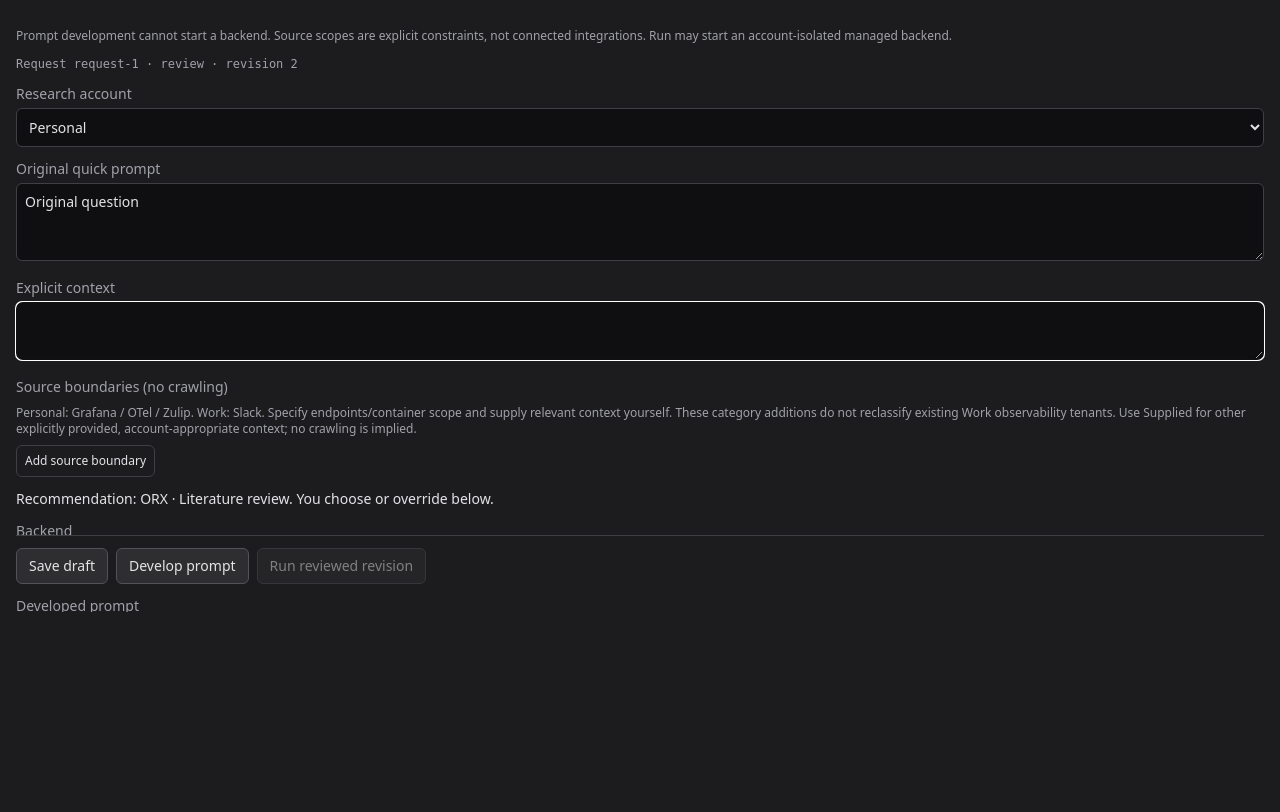
it: prevents overlapping operations and treats failed refresh as uncertain inspection
This screenshot has width=1280, height=812.
Step 1. Click the button "Save draft" → (62, 566), box [16,548,108,584]
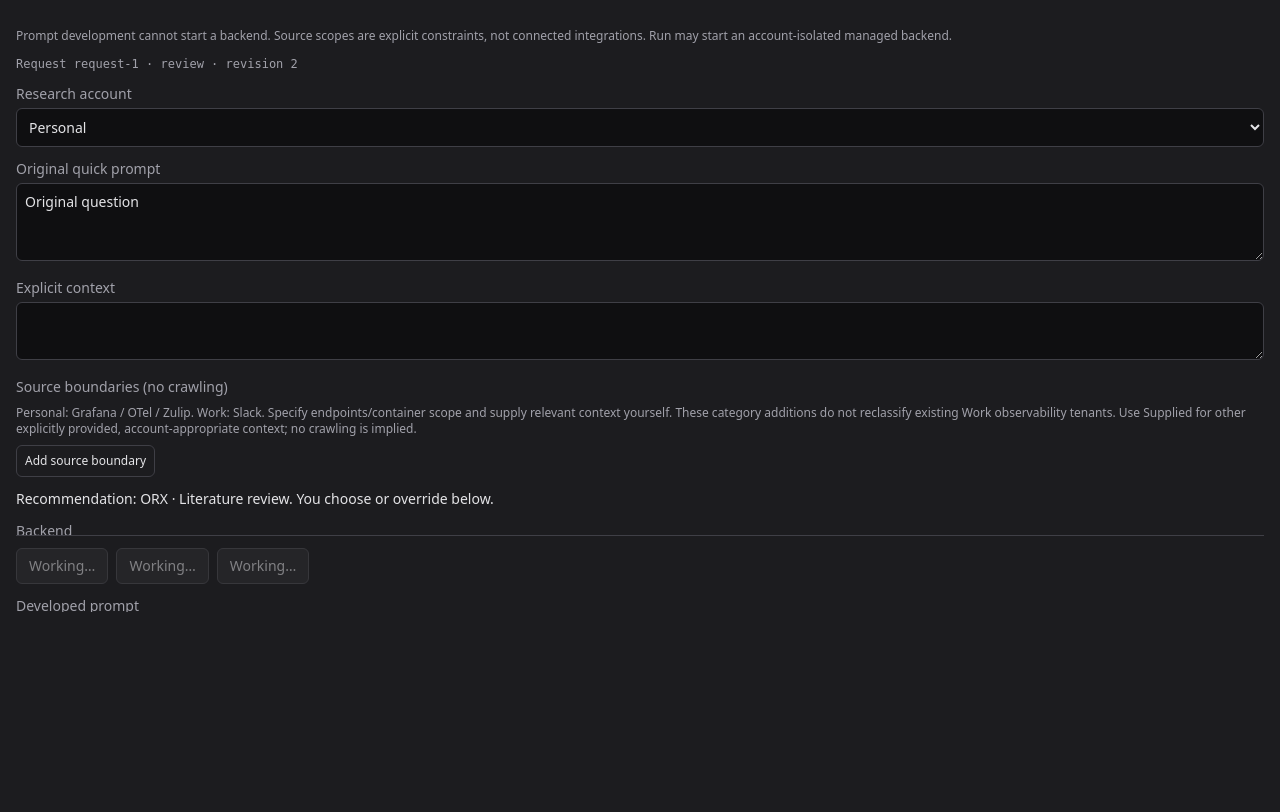
Step 2. Click the 1st button "Working…" → (62, 566), box [16,548,108,584]
(page scrolled)
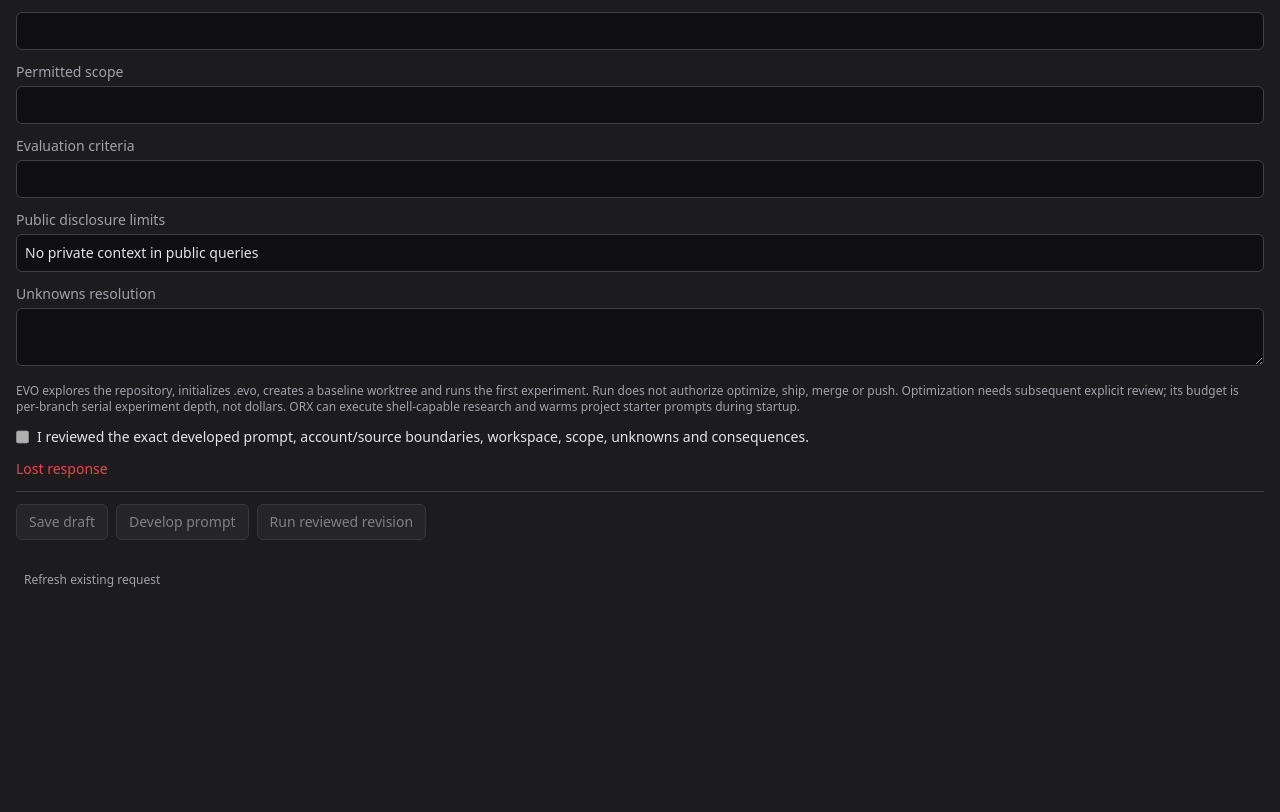
Step 3. Click the button "Refresh existing request" → (92, 580), box [16,564,168,596]
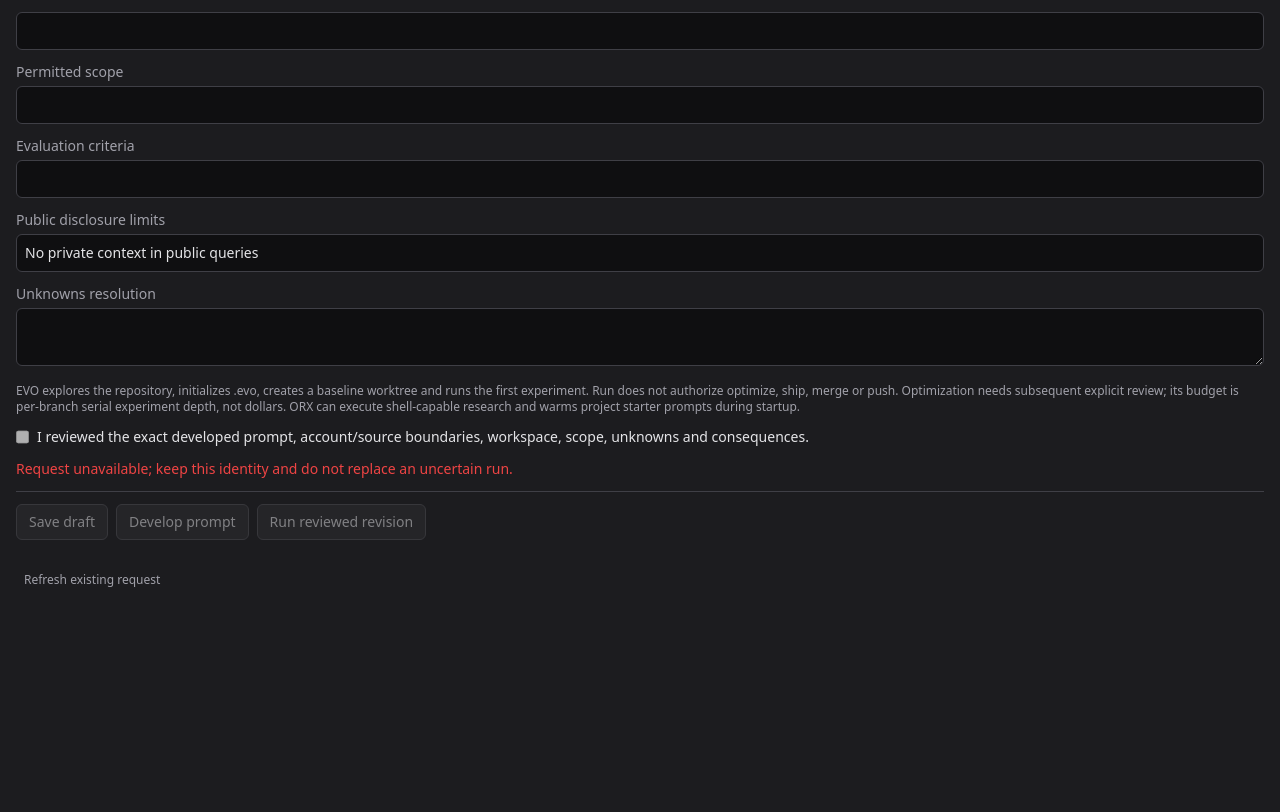
Expected: the message shows "Request unavailable", [16,459,513,478]
